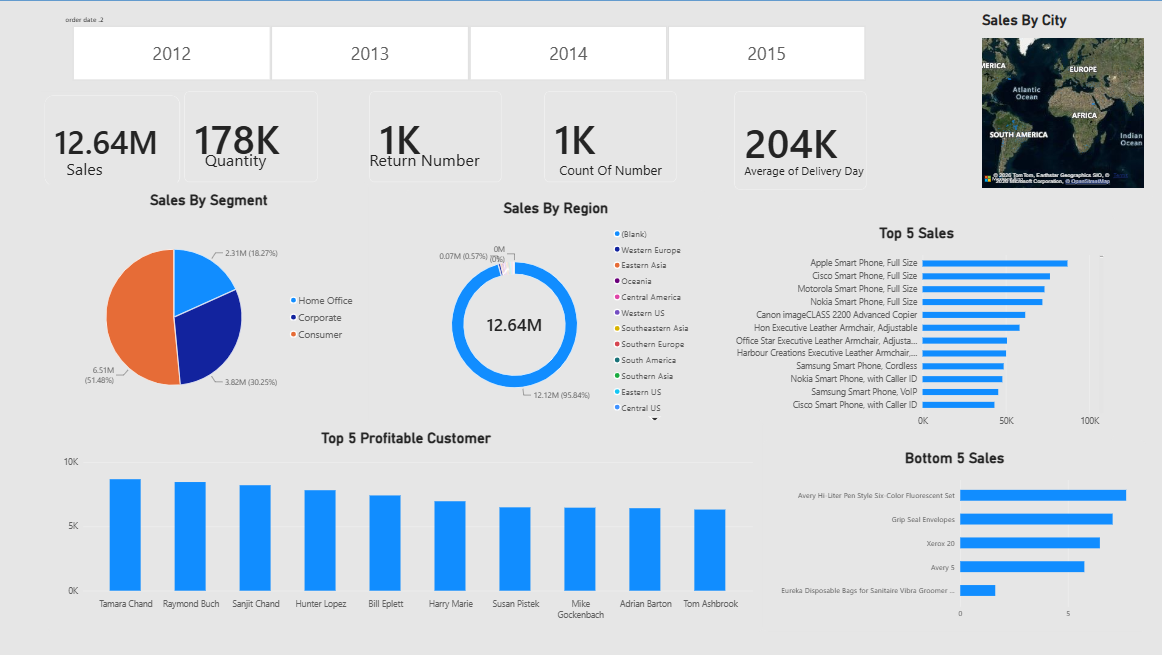

This screenshot's page, from the dashboard's own definition file:
{"tool":"powerbi","page":{"name":"Page 1","canvas":[1920,1080],"ordinal":0},"visuals":[{"type":"shape","box":[0,0,1920,1080],"z":0},{"type":"textbox","box":[102.9,51.5,1735.2,133.8],"z":1000},{"type":"cardVisual","fields":{"Data":["Sum(Orders.Sales)"]},"box":[70,150.3,236.7,162.6],"z":2000},{"type":"pieChart","title":"Sales By Segment","fields":{"Y":["Sum(Orders.Sales)"],"Category":["Orders.Segment"]},"box":[82.3,300.5,528.1,402],"z":3000},{"type":"donutChart","title":"Sales By Region","fields":{"Y":["Sum(Orders.Sales)"],"Category":["People.Region"]},"box":[671,312.9,493.3,402.2],"z":4000},{"type":"clusteredBarChart","title":"Top 5 Sales","fields":{"Category":["Orders.Product Name"],"Y":["Sum(Orders.Sales)"]},"box":[1185.6,354,652.5,370.5],"z":5000},{"type":"clusteredColumnChart","title":"Top 5 Profitable Customer","fields":{"Category":["Orders.Customer Name"],"Y":["Sum(Orders.Profit)"]},"box":[82.2,691.1,1177.8,348.9],"z":6000},{"type":"clusteredBarChart","title":"Bottom 5 Sales","fields":{"Category":["Orders.Product Name"],"Y":["Sum(Orders.Sales)"]},"box":[1259.7,724.5,629.8,314.9],"z":7000},{"type":"filledMap","title":"Sales By City","fields":{"Category":["Orders.City"]},"box":[1604.4,4.4,300,322.2],"z":8000},{"type":"cardVisual","fields":{"Data":["Sum(Orders.Quantity)"]},"box":[306.7,150.3,220.2,150.3],"z":9000},{"type":"cardVisual","fields":{"Data":["Sum(Returns.return number)"]},"box":[611.3,150.3,218.2,150.3],"z":10000},{"type":"cardVisual","fields":{"Data":["Sum(Returns.Return)"]},"box":[899.5,150.3,218.2,150.3],"z":11000},{"type":"textbox","box":[671,244.9,263.5,55.6],"z":12000},{"type":"textbox","box":[1414.1,300.5,160.5,53.5],"z":13000},{"type":"cardVisual","fields":{"Data":["Sum(Orders.Delivers day)"]},"box":[1212.4,150.3,218.2,162.6],"z":14000},{"type":"slicer","fields":{"Values":["Orders.order date .2"]},"box":[102.9,24.7,1344.1,109.1],"z":15000},{"type":"textbox","box":[102.9,259.3,86.4,41.2],"z":15001},{"type":"textbox","box":[306.7,244.9,168.8,41.2],"z":15002},{"type":"textbox","box":[611.3,244.9,218.2,41.2],"z":15003},{"type":"textbox","box":[899.5,259.3,218.2,41.2],"z":15004},{"type":"textbox","box":[1212.4,259.3,234.6,53.5],"z":15005}]}

Visuals, with their boxes in screenshot pixels (x1, y1, x2, y2), scaled from the page's 1920x1080 canvas onto the 1162x655 screenshot:
shape: locate(0, 0, 1161, 654)
textbox: locate(62, 31, 1112, 112)
cardVisual - Sum(Orders.Sales): locate(42, 91, 186, 190)
"Sales By Segment" pieChart: locate(50, 182, 369, 426)
"Sales By Region" donutChart: locate(406, 190, 705, 434)
"Top 5 Sales" clusteredBarChart: locate(718, 215, 1112, 439)
"Top 5 Profitable Customer" clusteredColumnChart: locate(50, 419, 763, 631)
"Bottom 5 Sales" clusteredBarChart: locate(762, 439, 1144, 630)
"Sales By City" filledMap: locate(971, 3, 1153, 198)
cardVisual - Sum(Orders.Quantity): locate(186, 91, 319, 182)
cardVisual - Sum(Returns.return number): locate(370, 91, 502, 182)
cardVisual - Sum(Returns.Return): locate(544, 91, 676, 182)
textbox: locate(406, 149, 566, 182)
textbox: locate(856, 182, 953, 215)
cardVisual - Sum(Orders.Delivers day): locate(734, 91, 866, 190)
slicer - Orders.order date .2: locate(62, 15, 876, 81)
textbox: locate(62, 157, 115, 182)
textbox: locate(186, 149, 288, 174)
textbox: locate(370, 149, 502, 174)
textbox: locate(544, 157, 676, 182)
textbox: locate(734, 157, 876, 190)
